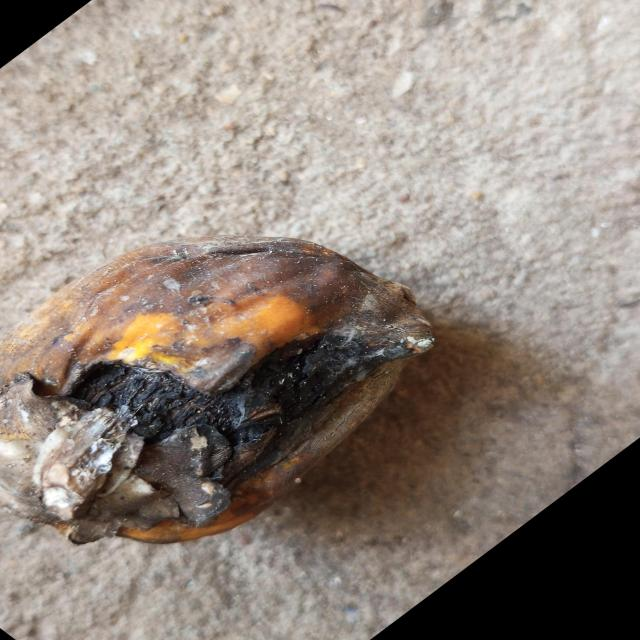damaged: (0, 238, 436, 551)
